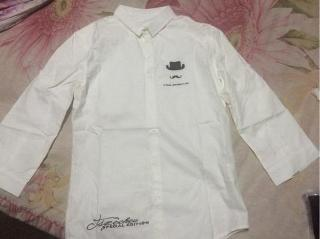long sleeve top: (0, 4, 319, 239)
